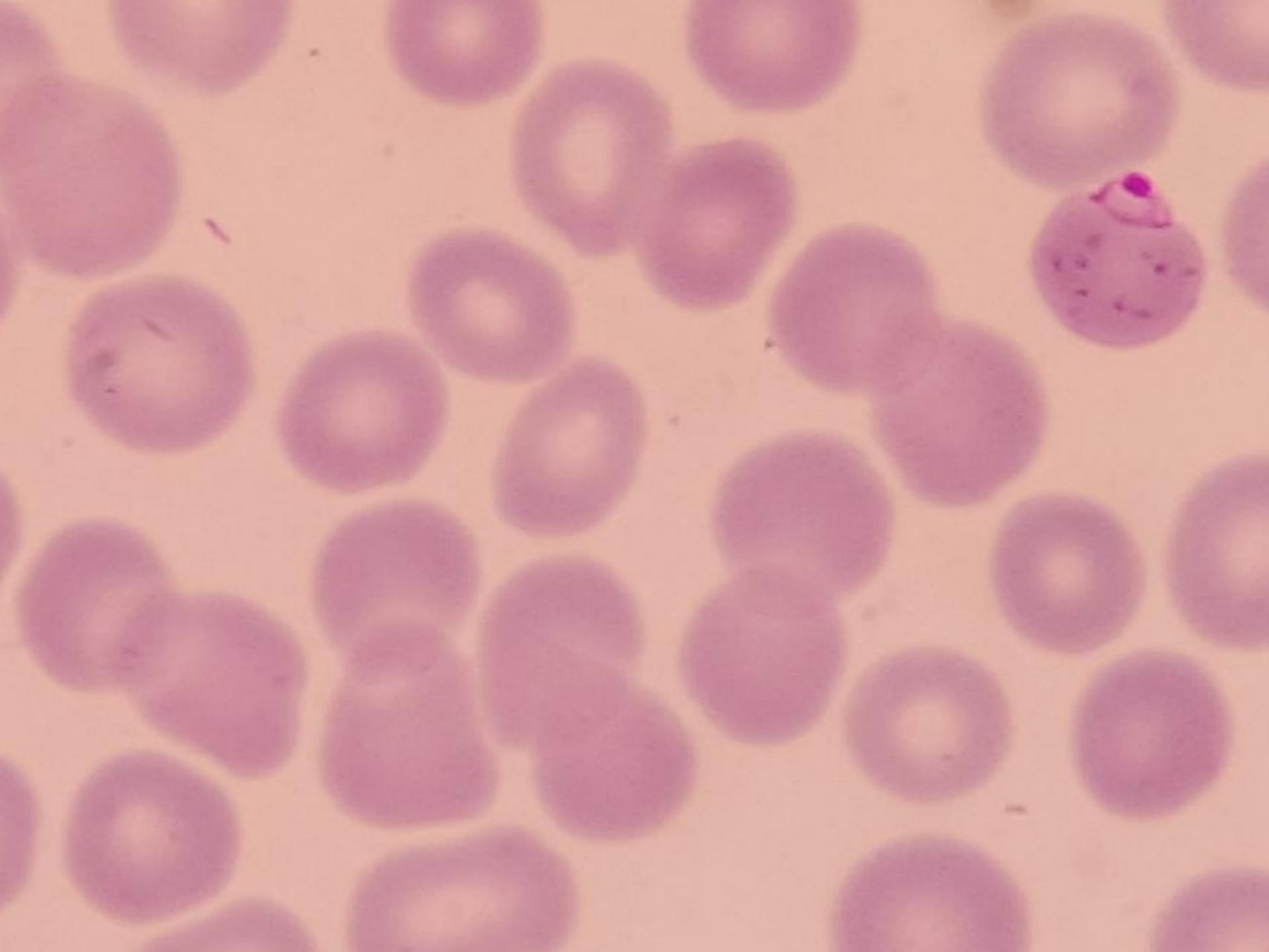Infected: (1029, 170, 1207, 344)
Uninfected: (112, 590, 303, 780), (980, 10, 1179, 186), (321, 630, 496, 830), (0, 75, 177, 271), (871, 317, 1050, 503), (709, 428, 898, 600), (69, 273, 251, 448), (509, 60, 669, 254), (317, 497, 480, 685), (534, 657, 697, 842), (770, 227, 946, 397), (66, 750, 237, 921), (681, 565, 846, 742), (623, 136, 793, 306), (482, 557, 642, 736), (344, 829, 576, 952), (492, 354, 644, 536), (278, 334, 443, 491), (25, 519, 174, 691), (844, 646, 1009, 798), (1077, 654, 1225, 822), (411, 233, 570, 381), (991, 497, 1137, 654), (833, 839, 1028, 950), (1163, 451, 1269, 643), (686, 0, 855, 112), (387, 2, 542, 106)
